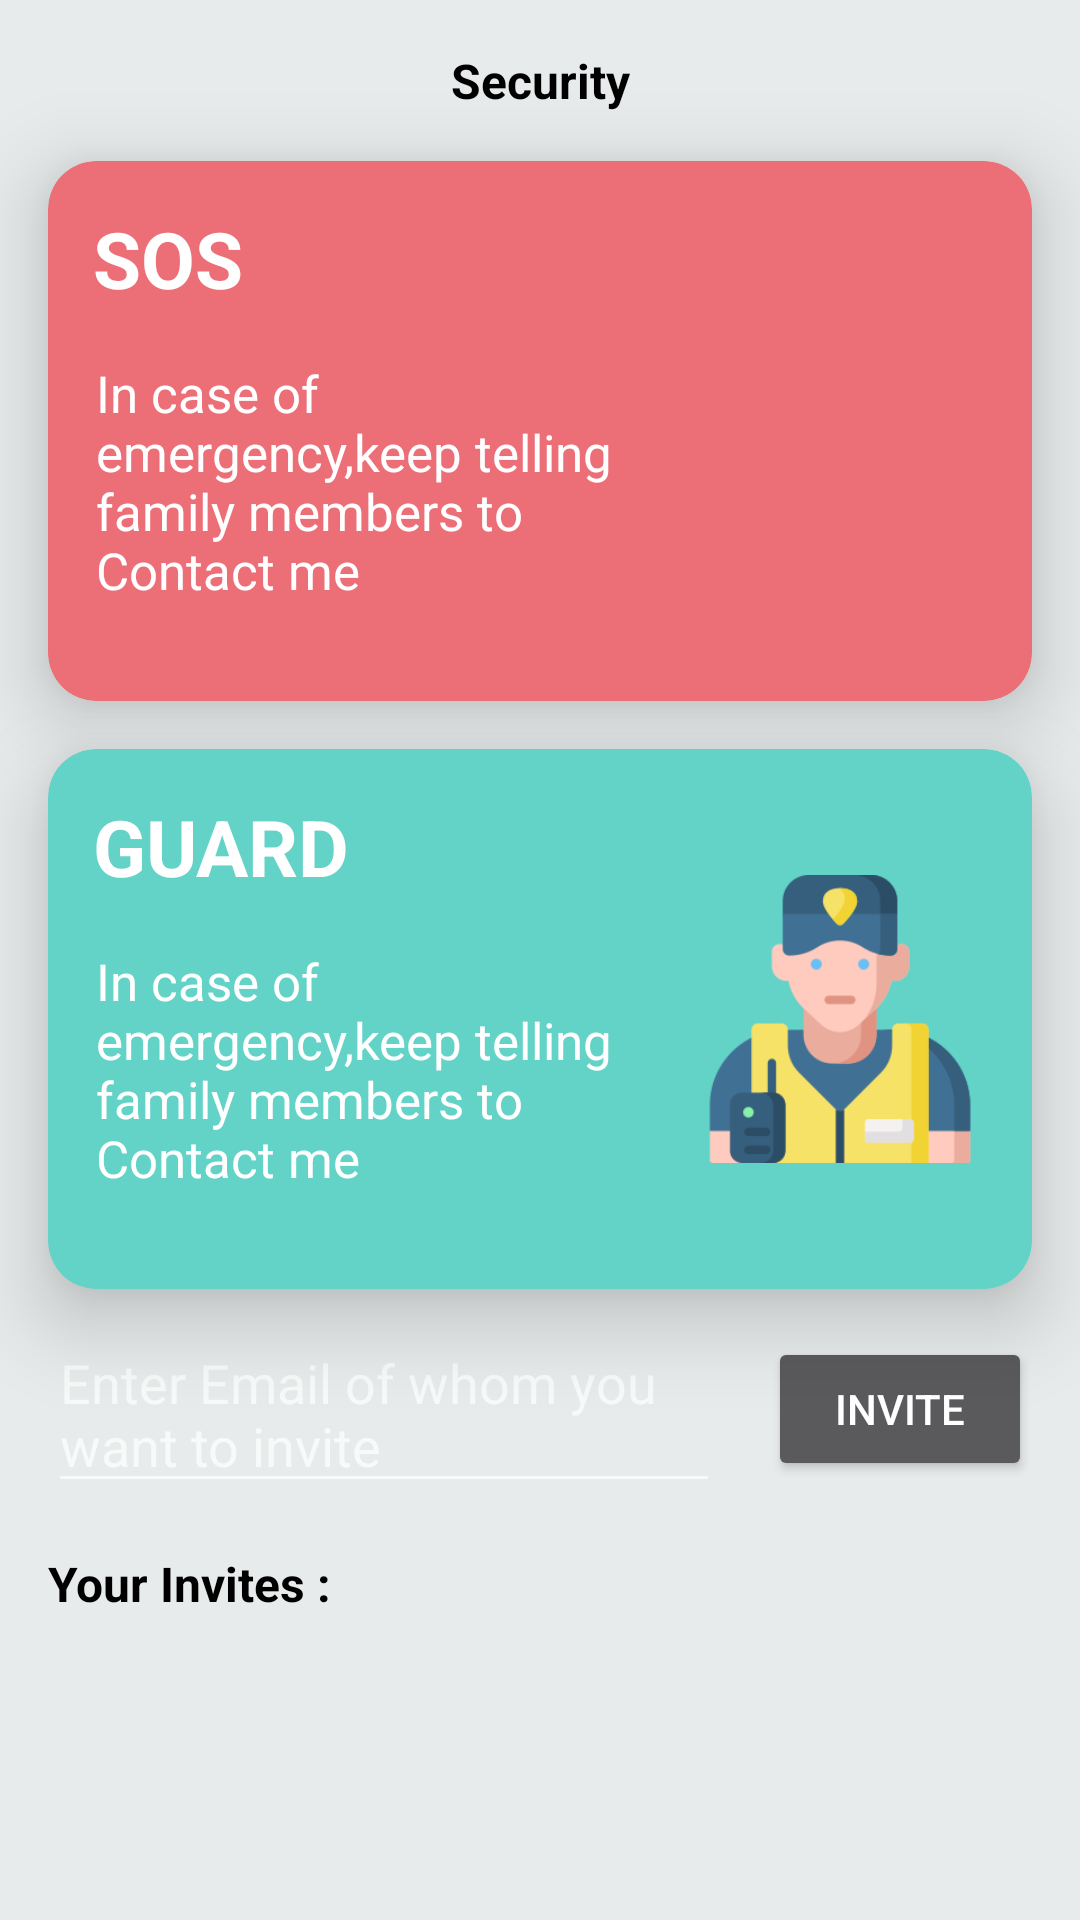

Icon bounding boxes for this 1080w x 1920h phone screenshot, format (x1, y1, x2, y2):
guard: (709, 875, 971, 1163)
